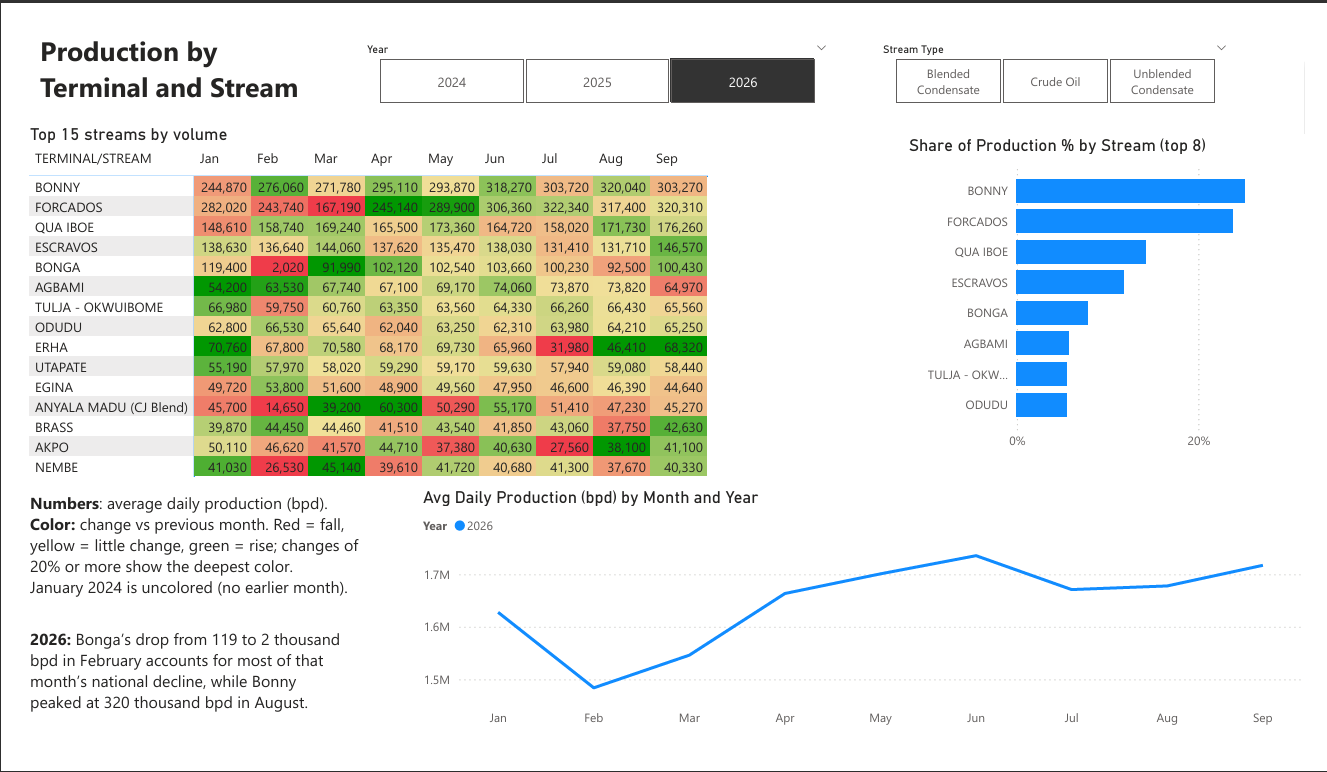

Layout of this report page (visuals, bound fields, positions):
{"tool":"powerbi","page":{"name":"TERMINALS","canvas":[1280,720],"ordinal":2},"visuals":[{"type":"textbox","box":[9.7,0,291.5,82.6],"z":0},{"type":"slicer","fields":{"Values":["Calendar.Year"]},"box":[328.7,11.3,485.8,71.2],"z":1000},{"type":"slicer","fields":{"Values":["Production_All.Stream Type"]},"box":[845.2,11.3,369.2,71.2],"z":2000},{"type":"pivotTable","title":"Top 15 streams by volume","fields":{"Columns":["Calendar.Month"],"Values":["Production_All.Avg Daily Production (bpd)"],"Rows":["Production_All.TERMINAL/STREAM"]},"box":[0,97.2,879.2,362.7],"z":3000},{"type":"lineChart","fields":{"Category":["Calendar.Month"],"Y":["Production_All.Avg Daily Production (bpd)"],"Series":["Calendar.Year"]},"box":[393.5,459.9,887.3,249.4],"z":4000},{"type":"barChart","title":"Share of Production % by Stream (top 8)","fields":{"Y":["Production_All.Share of Production %"],"Category":["Production_All.TERMINAL/STREAM"]},"box":[879.2,108.5,401.6,323.8],"z":5000},{"type":"textbox","box":[0,459.9,354.6,124.7],"z":6000},{"type":"textbox","box":[0,595.9,328.7,124.7],"z":7000}]}

Visuals, with their boxes on the page's 1280x720 design canvas (x1, y1, x2, y2). These are canvas units, not pixel positions in the 1327x772 screenshot, which may show the page scaled, cropped or inside an application window:
textbox: bbox(10, 0, 301, 83)
slicer - Calendar.Year: bbox(329, 11, 814, 82)
slicer - Production_All.Stream Type: bbox(845, 11, 1214, 82)
"Top 15 streams by volume" pivotTable: bbox(0, 97, 879, 460)
lineChart - Calendar.Month x Production_All.Avg Daily Production (bpd): bbox(394, 460, 1281, 709)
"Share of Production % by Stream (top 8)" barChart: bbox(879, 108, 1281, 432)
textbox: bbox(0, 460, 355, 585)
textbox: bbox(0, 596, 329, 721)
